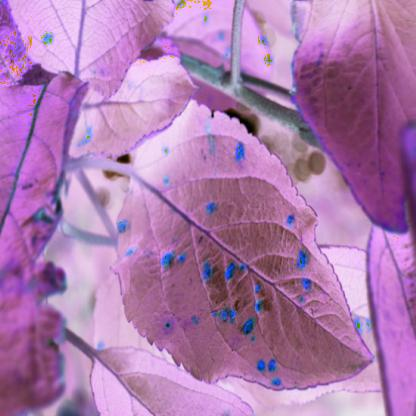apple rust leaf: (106, 96, 380, 396)
